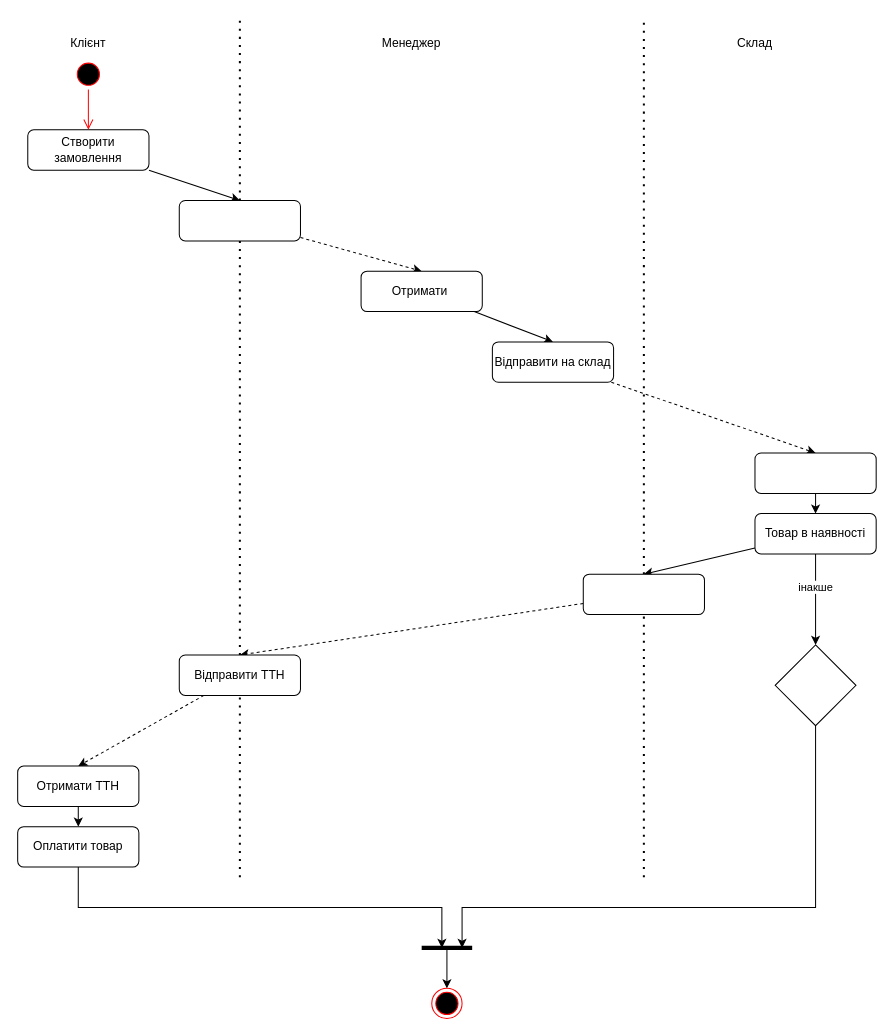
This 894x1036 diagram has some shape labels left out. The centre of each missing label's shape, as x and y in pixels:
"Відправити замовлення" belongs at [239,220].
"Оформити замовлення" belongs at [643,594].
"Перевірити наявність" belongs at [815,472].
